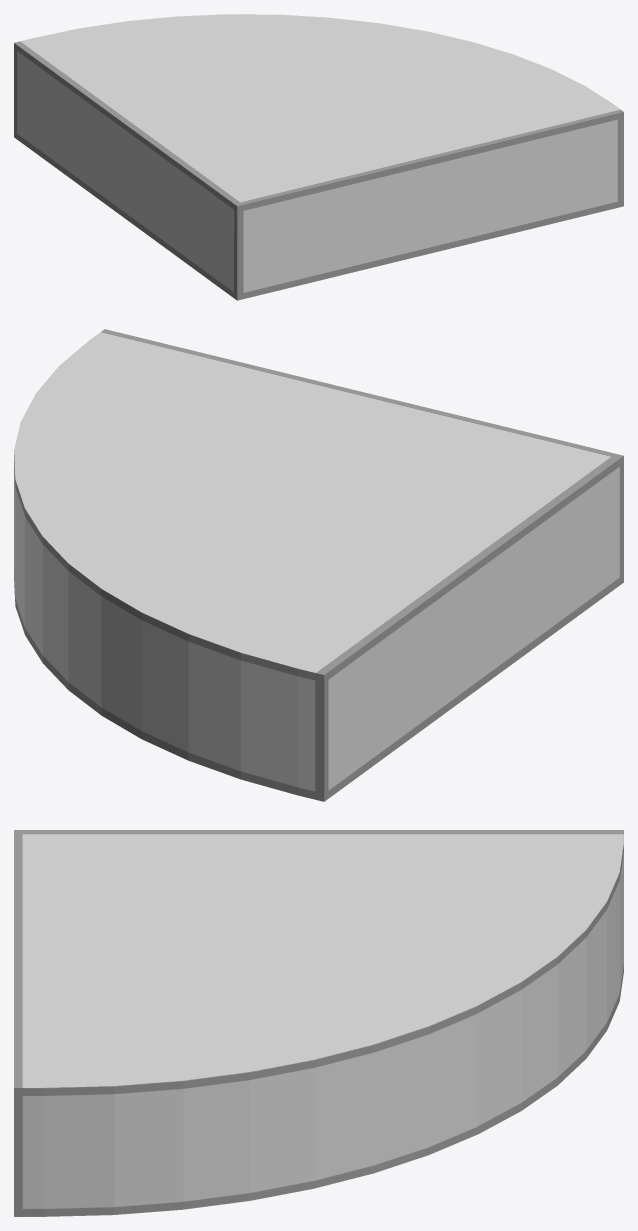
The model's file is belok.fbx.
3 renders of one model, top to bottom at view 1: azimuth 30°, elevation 25°; view 2: azimuth 150°, elevation 25°; view 3: azimuth 270°, elevation 25°, orthographic. The views are drawn at different scales.
Visible parts, largest first — view 1: belok; view 2: belok; view 3: belok.
Boxes of the visible parts, bbox=[...] form: belok: bbox=[14, 14, 623, 300]; belok: bbox=[14, 329, 623, 801]; belok: bbox=[14, 830, 623, 1216].
Size of the model in its own units: 300 by 70 by 300.
Materials: 1 (1 with a texture image).
